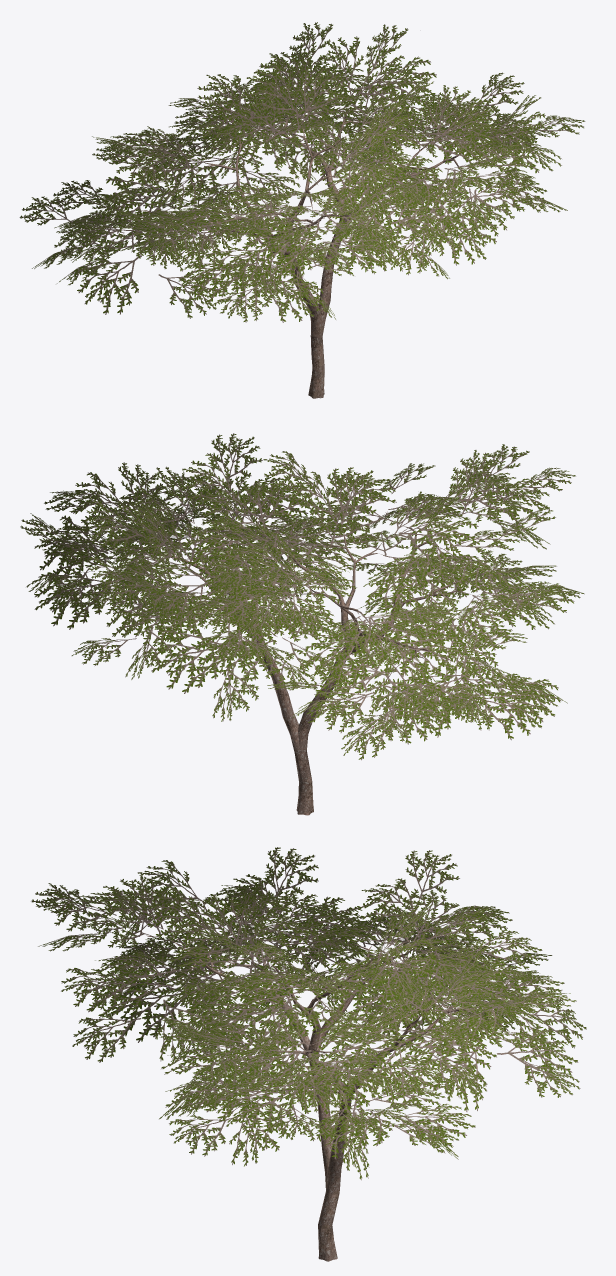
The model's file is acacia.glb.
3 renders of one model, top to bottom at view 1: azimuth 30°, elevation 25°; view 2: azimuth 150°, elevation 25°; view 3: azimuth 270°, elevation 25°, orthographic. The views are drawn at different scales.
Visible parts, largest first — view 1: acacia branch_1, bark05_0; view 2: acacia branch_1, bark05_0; view 3: acacia branch_1, bark05_0.
Boxes of the visible parts, x1=… form: acacia branch_1: x1=19, y1=22, x2=585, y2=322; bark05_0: x1=121, y1=92, x2=497, y2=398; acacia branch_1: x1=20, y1=433, x2=584, y2=760; bark05_0: x1=110, y1=504, x2=482, y2=815; acacia branch_1: x1=31, y1=847, x2=586, y2=1180; bark05_0: x1=146, y1=907, x2=487, y2=1261.
Size of the model in its own units: 12.8 by 6.9 by 10.39.
2 materials, 2 textured.
